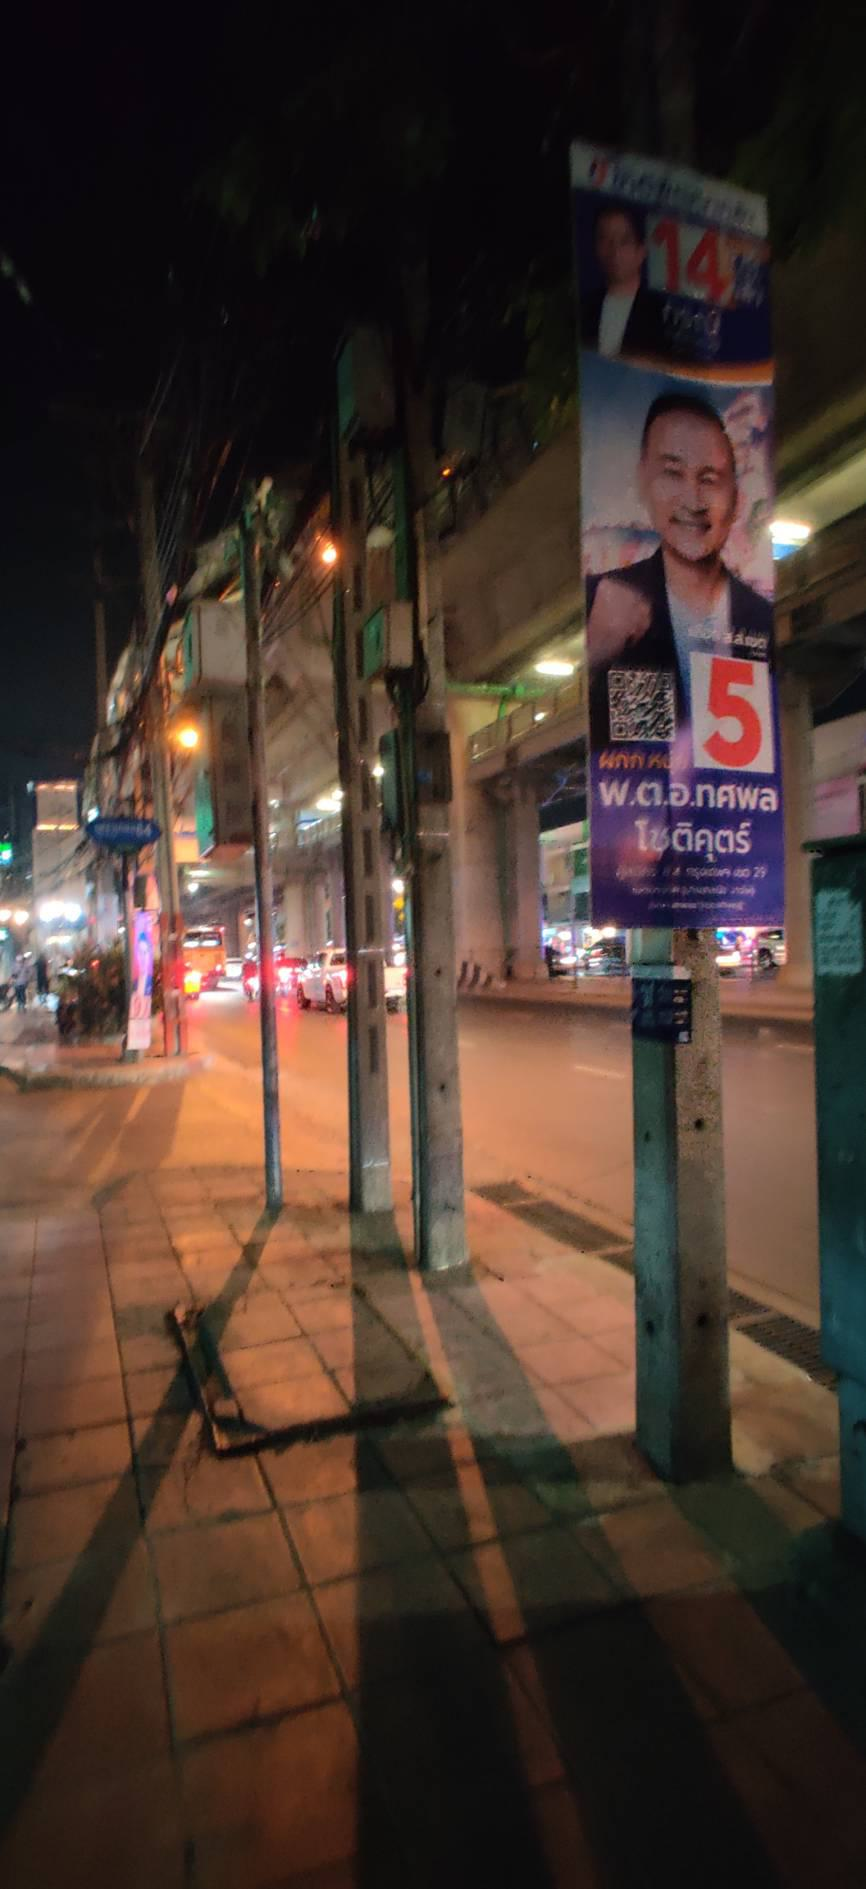Banner: (582, 361, 780, 932), (584, 149, 770, 357)
